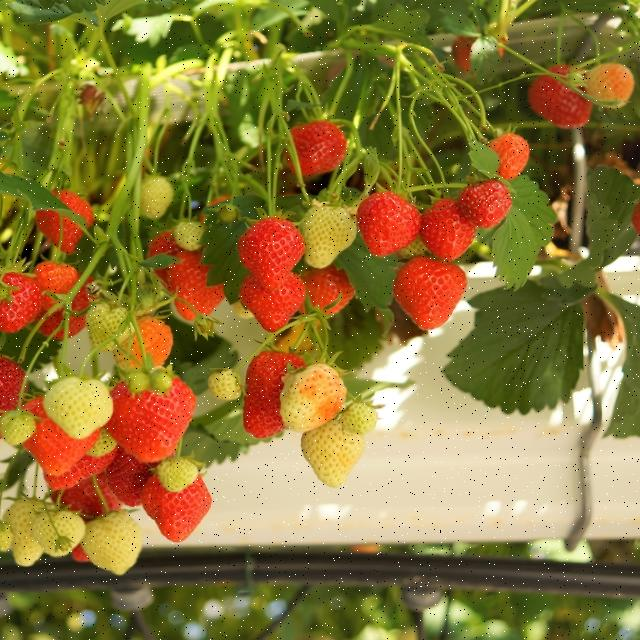Ripe Strawberry: (111, 376, 195, 462), (244, 350, 307, 440), (53, 479, 121, 562), (392, 257, 467, 331), (35, 426, 117, 493), (35, 261, 99, 341), (140, 471, 211, 543), (239, 218, 304, 288), (166, 250, 226, 320), (530, 66, 594, 130), (357, 194, 421, 258), (239, 273, 304, 333), (420, 199, 483, 255), (36, 192, 93, 252), (149, 232, 206, 291), (106, 446, 160, 508), (287, 120, 345, 174), (460, 179, 513, 230), (0, 272, 42, 334), (298, 268, 354, 314), (0, 356, 25, 441), (454, 36, 504, 70)
